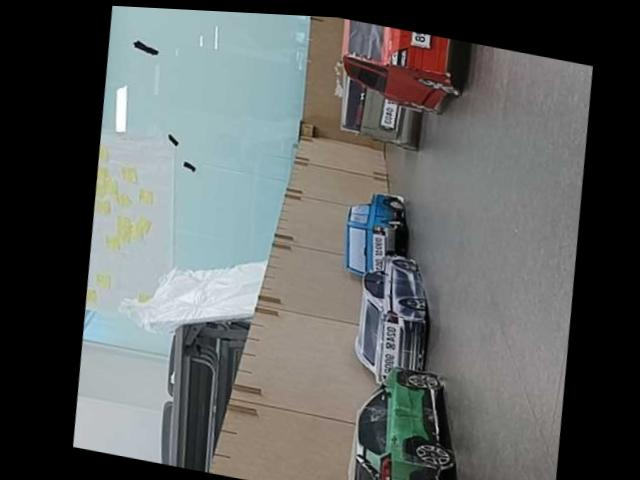car: (335, 354, 474, 480), (327, 17, 475, 124), (344, 247, 439, 397), (334, 181, 412, 285), (331, 79, 429, 155)
id: (374, 319, 406, 381), (365, 233, 390, 276), (376, 96, 401, 133)
